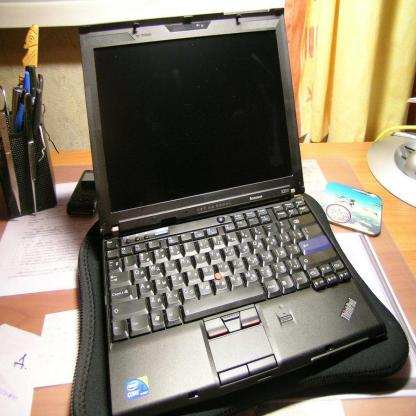board: (78, 7, 385, 415)
